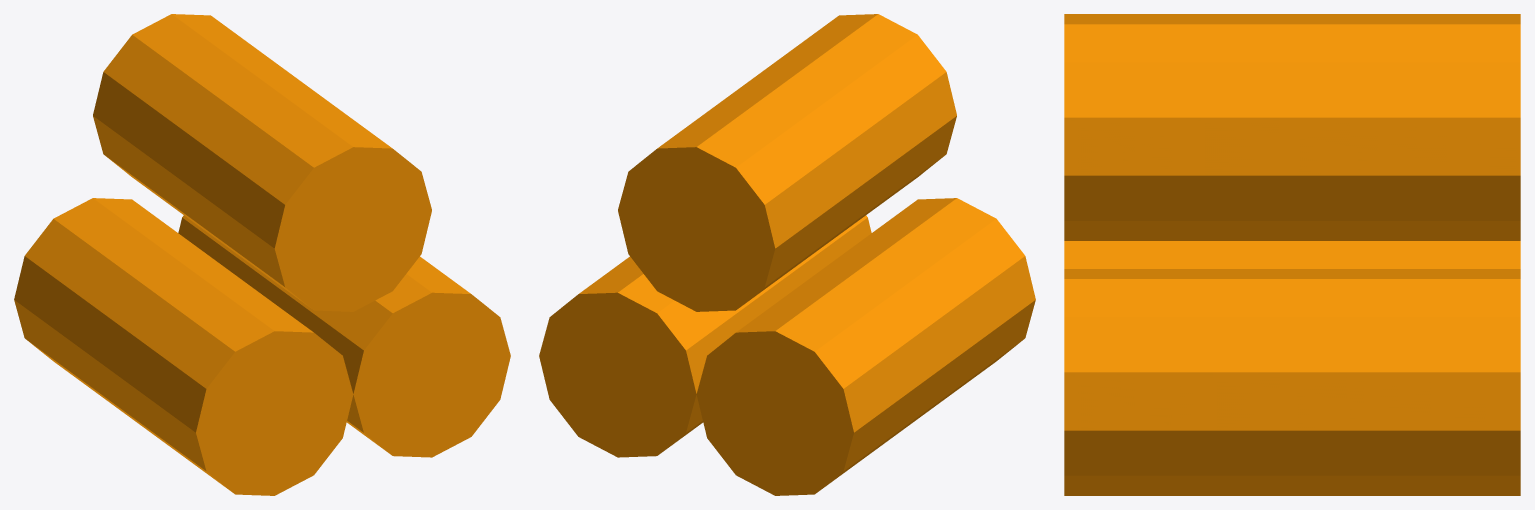
File: Colorfull Shotgun - Ammo.obj
3 renders of one model, left to right at view 1: azimuth 30°, elevation 25°; view 2: azimuth 150°, elevation 25°; view 3: azimuth 270°, elevation 25°, orthographic. The views are drawn at different scales.
Parts seen in each view (by area): view 1: group2051160685, group2045724089, group992368549, group1470426596, group1093279528, group547957561; view 2: group2051160685, group2045724089, group547957561, group1470426596, group992368549, group1093279528; view 3: group547957561, group2045724089, group1093279528, group1470426596, group2051160685, group992368549.
Part boxes in pixels (x1,y1,x2,y2): group2051160685: [14, 198, 267, 459]; group2045724089: [93, 14, 346, 274]; group992368549: [150, 298, 353, 495]; group1470426596: [229, 114, 431, 311]; group1093279528: [315, 260, 510, 457]; group547957561: [178, 215, 425, 332]; group2051160685: [696, 231, 990, 495]; group2045724089: [618, 47, 911, 311]; group547957561: [539, 248, 825, 457]; group1470426596: [794, 14, 956, 208]; group992368549: [873, 198, 1035, 391]; group1093279528: [821, 215, 871, 266]; group547957561: [1178, 269, 1520, 495]; group2045724089: [1178, 14, 1520, 240]; group1093279528: [1064, 269, 1178, 495]; group1470426596: [1064, 14, 1178, 240]; group2051160685: [1178, 241, 1520, 268]; group992368549: [1064, 241, 1178, 268].
Bounding box in the file's own units: 0.04 × 0.04 × 0.04.
